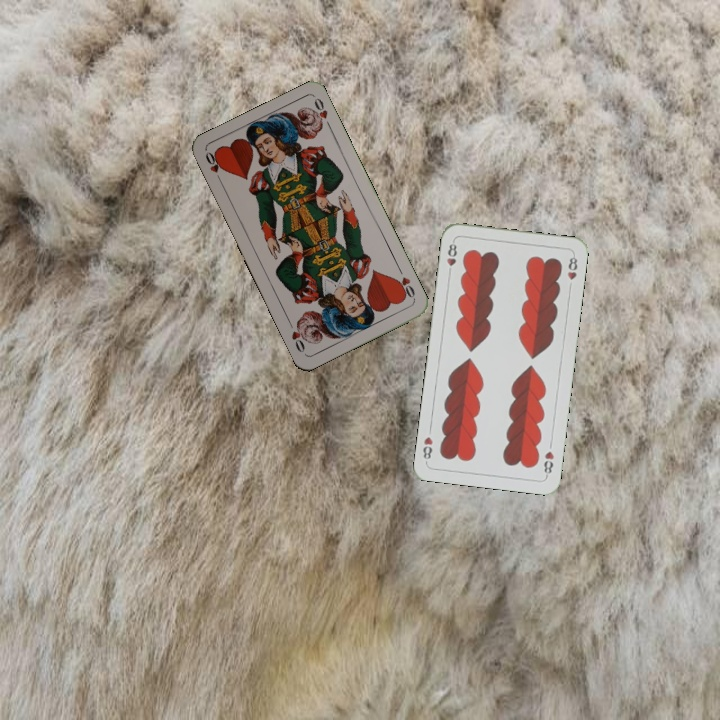H8: (443, 237, 459, 277), (540, 447, 556, 479)
HO: (392, 264, 417, 302), (201, 148, 225, 186)
